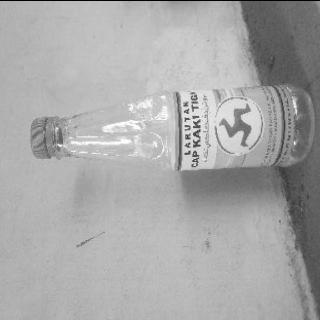plastic_bottles: (27, 78, 316, 172)
